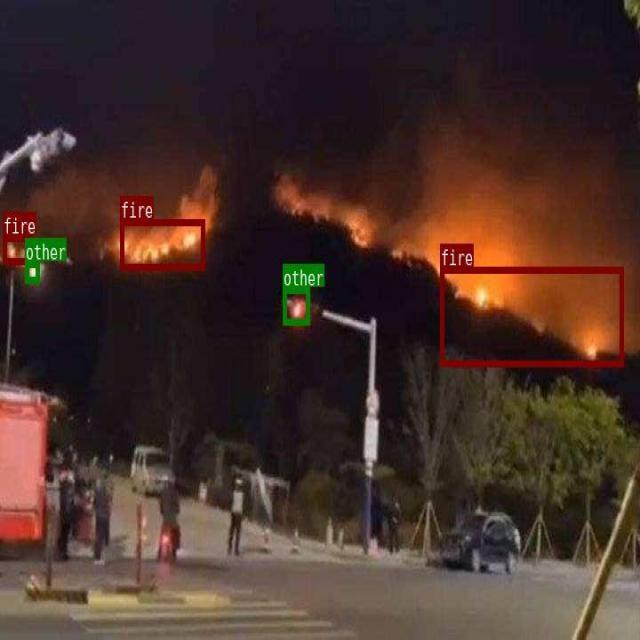fire: (440, 266, 622, 366), (120, 218, 204, 269), (3, 235, 32, 263)
